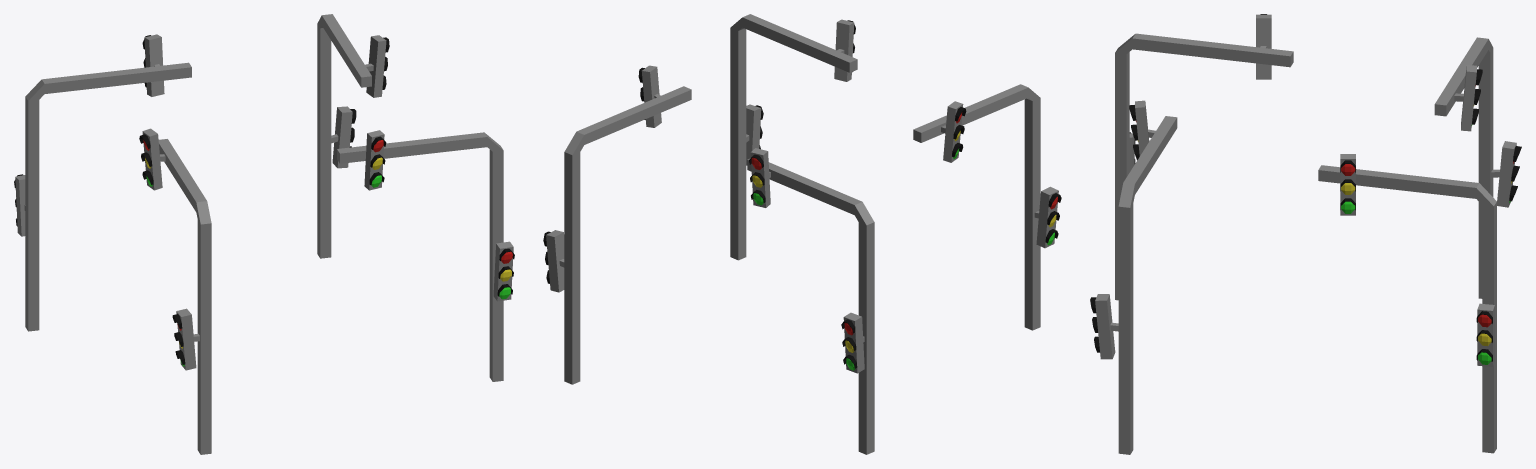
File: SM_StreetLights.fbx
The picture shows the model from 3 angles, left to right: view 1: azimuth 30°, elevation 25°; view 2: azimuth 150°, elevation 25°; view 3: azimuth 270°, elevation 25°; orthographic projection. The views are drawn at different scales.
Visible parts, largest first — view 1: Cube; view 2: Cube; view 3: Cube.
Part boxes in pixels (x1,y1,x2,y2): Cube: [14, 14, 514, 454]; Cube: [543, 14, 1061, 454]; Cube: [1090, 14, 1521, 454].
Bounding box in the file's own units: 356 × 262 × 356.
